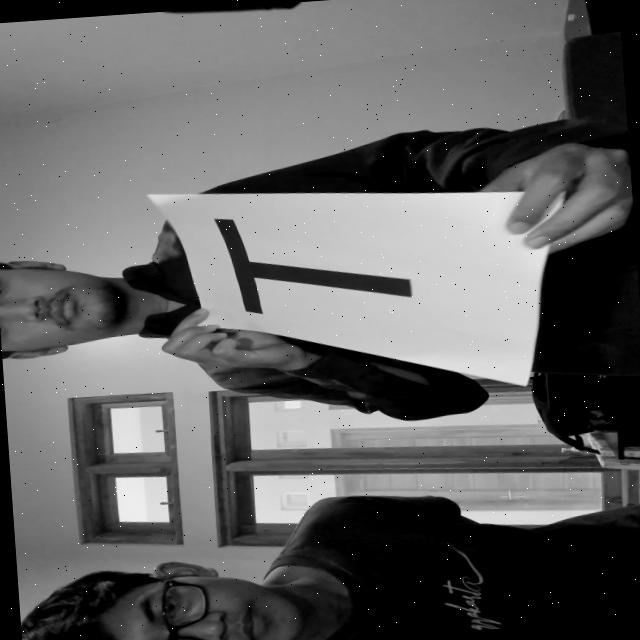t: (187, 189, 427, 338)
